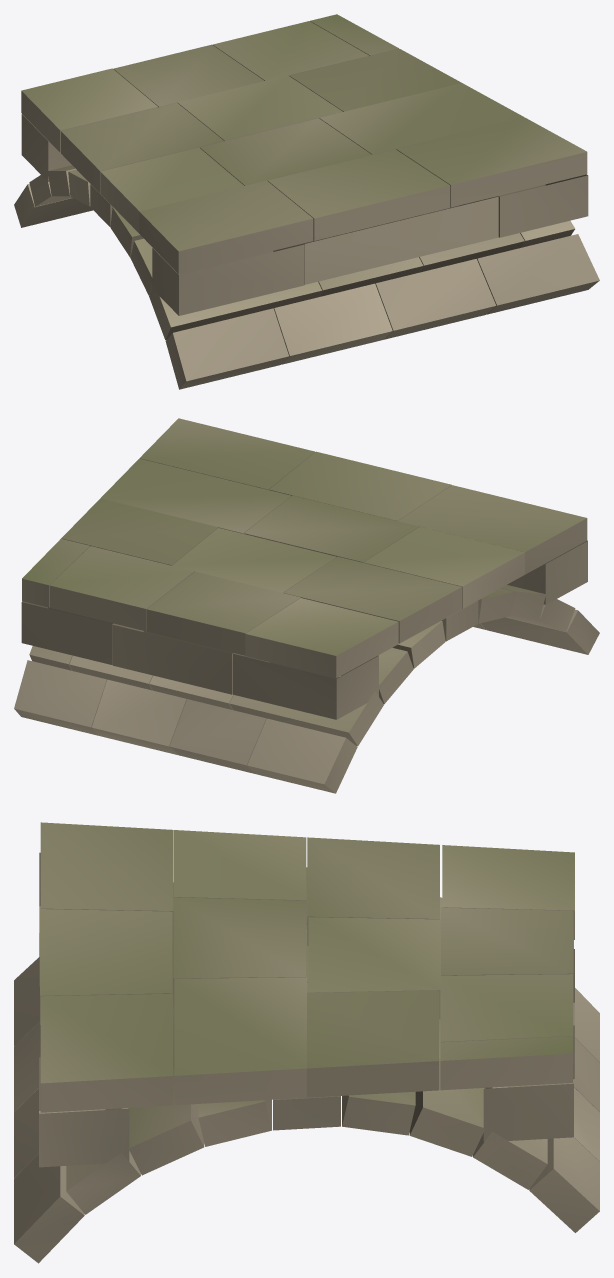
Rendered from arena_vault_b_mid.glb.
3 renders of one model, top to bottom at view 1: azimuth 30°, elevation 25°; view 2: azimuth 150°, elevation 25°; view 3: azimuth 270°, elevation 25°, orthographic. The views are drawn at different scales.
Parts seen in each view (by area): view 1: arena_vault_b_mid; view 2: arena_vault_b_mid; view 3: arena_vault_b_mid.
Part boxes in pixels (x1,y1,x2,y2): arena_vault_b_mid: (14,14,599,389); arena_vault_b_mid: (14,418,599,793); arena_vault_b_mid: (14,822,599,1263).
Bounding box in the file's own units: 18.69 × 5.94 × 17.53.
